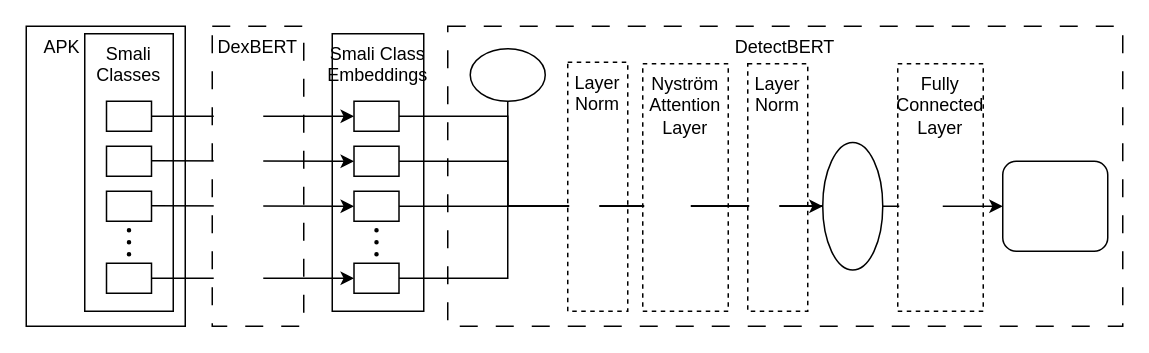
Some shapes in this 1149 by 353 pixel diagram are drawn without their labels. Each missing label, with the centre of its shape:
"CLS Token" goes at point (507, 74).
"Emb. CLS Token" goes at point (852, 205).
"Prediction" goes at point (1054, 205).
